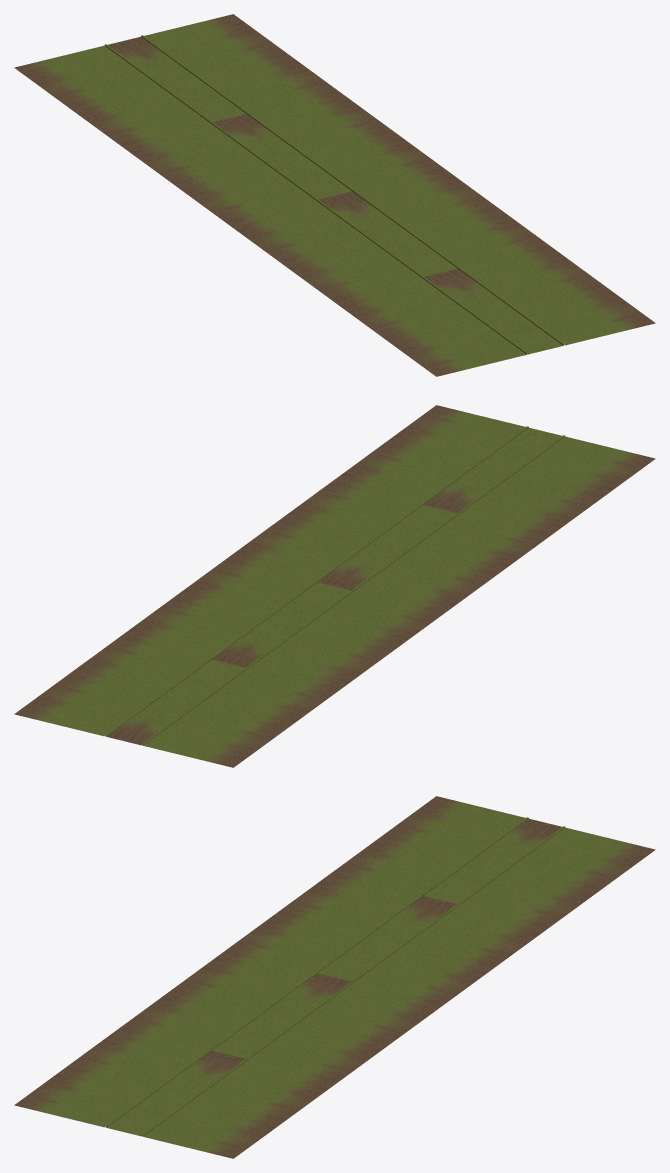
The model's file is ground.fbx.
3 views of the same model, one above another, from view 1: azimuth 30°, elevation 25°; view 2: azimuth 150°, elevation 25°; view 3: azimuth 330°, elevation 25° (orthographic).
Parts seen in each view (by area): view 1: Grass_Land, Small_Patch_Road, Curbs; view 2: Grass_Land, Small_Patch_Road, Curbs; view 3: Grass_Land, Small_Patch_Road, Curbs.
Part boxes in pixels (<box>): Grass_Land: <box>14,14,655,376</box>; Small_Patch_Road: <box>108,36,563,354</box>; Curbs: <box>104,35,565,354</box>; Grass_Land: <box>14,405,655,767</box>; Small_Patch_Road: <box>106,427,561,745</box>; Curbs: <box>104,426,565,745</box>; Grass_Land: <box>14,796,655,1158</box>; Small_Patch_Road: <box>106,818,561,1136</box>; Curbs: <box>104,817,565,1136</box>.
Size of the model in its own units: 2400 by 10 by 8000.
